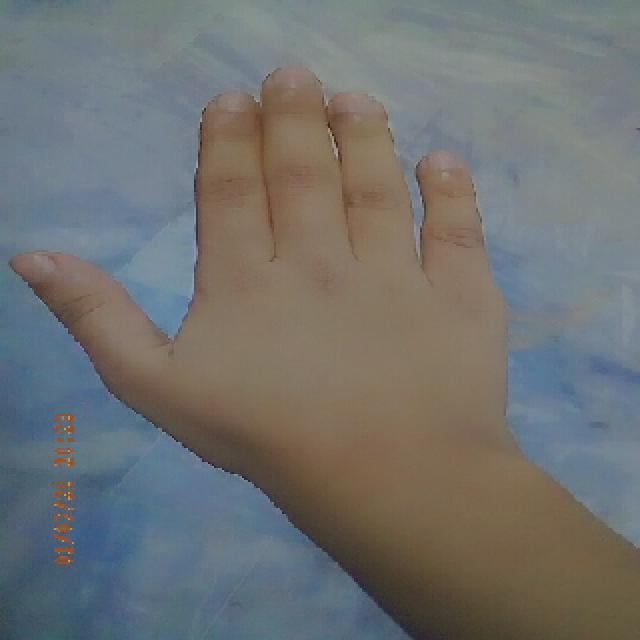Nail: (4, 251, 59, 285), (331, 92, 373, 115), (424, 149, 461, 172), (217, 90, 253, 112), (272, 68, 315, 86)
